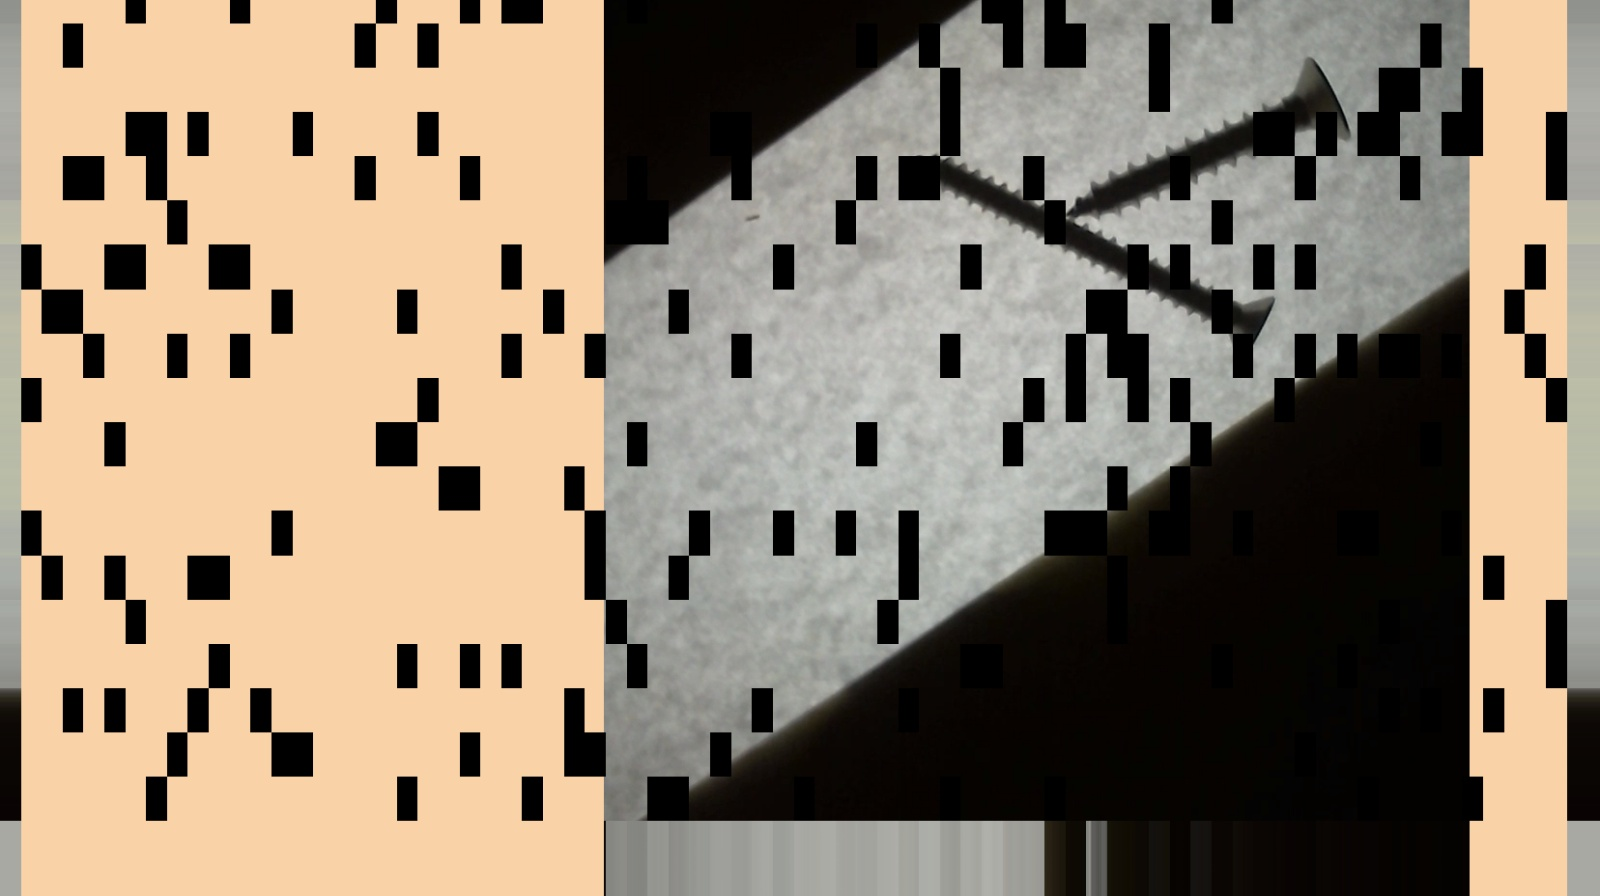S001: (1067, 55, 1352, 215)
S002: (907, 152, 1275, 359)
